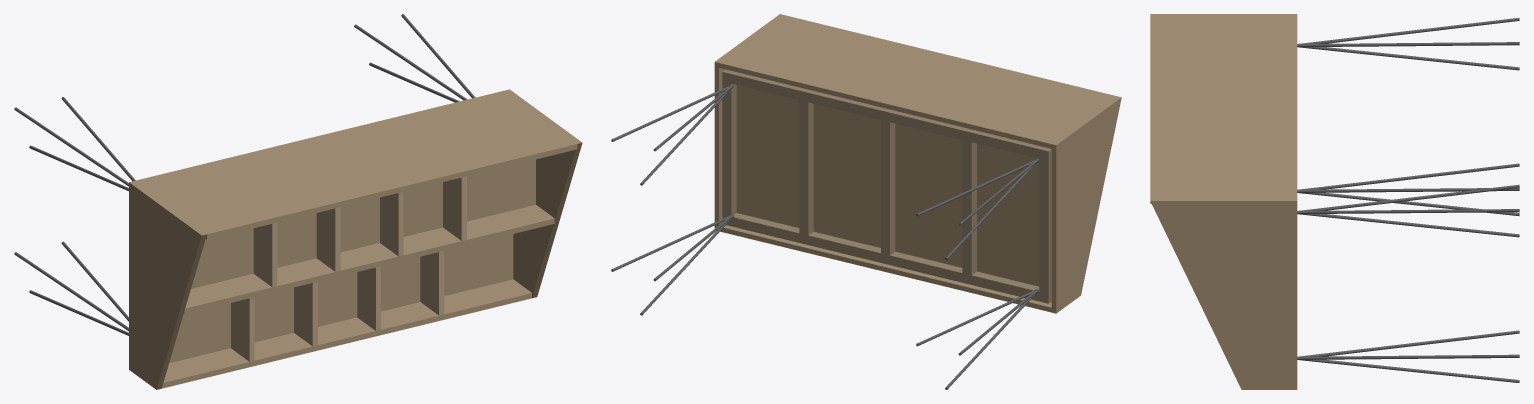
File: vinyl_record_storage.glb
The picture shows the model from 3 angles, left to right: view 1: azimuth 30°, elevation 25°; view 2: azimuth 150°, elevation 25°; view 3: azimuth 270°, elevation 25°; orthographic projection. The views are drawn at different scales.
Parts seen in each view (by area): view 1: back, back_shelf_bottom, bottom, side_left, shelf_divider, front, side_right, front_divider_4, back_divider_1, back_divider_2, front_divider_1, back_divider_3 (+6 smaller); view 2: bottom, back, side_left, frame_front, frame_back, front, frame_right, frame_left, frame_cross_3, frame_cross_2, frame_cross_1, side_right (+4 smaller); view 3: back, side_right, leg_back_right, leg_back_left, leg_front_right, leg_front_left, side_left.
Part boxes in pixels (box(x1,y1,x2,y2)): back: box(134, 90, 577, 239); back_shelf_bottom: box(191, 159, 535, 288); bottom: box(169, 234, 513, 362); side_left: box(129, 181, 206, 389); shelf_divider: box(183, 205, 554, 313); front: box(162, 279, 531, 388); side_right: box(505, 89, 582, 298); front_divider_4: box(420, 251, 444, 315); back_divider_1: box(253, 222, 277, 287); back_divider_2: box(316, 207, 340, 271); front_divider_1: box(231, 297, 254, 361); back_divider_3: box(380, 192, 403, 256); bottom: box(724, 69, 1051, 302); back: box(719, 15, 1116, 148); side_left: box(1051, 96, 1121, 313); frame_front: box(731, 213, 1039, 301); frame_back: box(731, 71, 1042, 158); front: box(720, 225, 1051, 312); frame_right: box(722, 69, 736, 226); frame_left: box(1039, 147, 1051, 303); frame_cross_3: box(799, 100, 813, 235); frame_cross_2: box(881, 120, 895, 255); frame_cross_1: box(962, 140, 976, 275); side_right: box(714, 14, 784, 228); back: box(1150, 16, 1297, 203); side_right: box(1150, 198, 1297, 389); leg_back_right: box(1297, 184, 1519, 237); leg_back_left: box(1297, 18, 1519, 70); leg_front_right: box(1297, 330, 1519, 382); leg_front_left: box(1297, 163, 1519, 215); side_left: box(1150, 14, 1297, 16).
Size of the model in its own units: 57.08 by 27.25 by 46.53.
